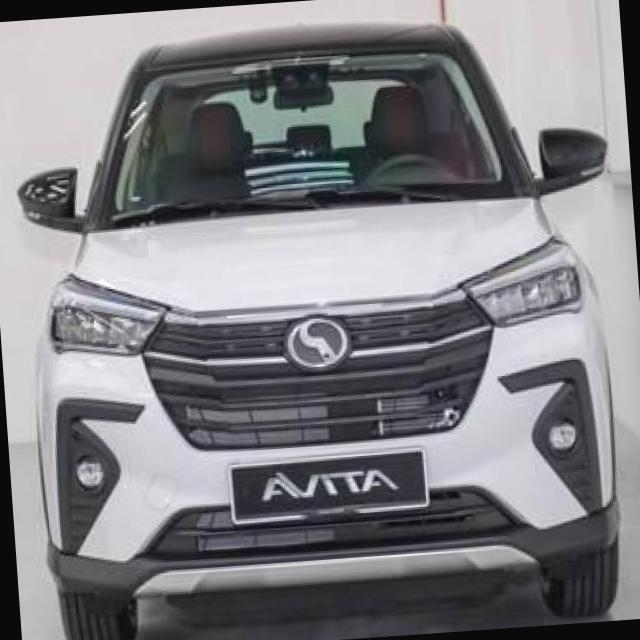PeroduaAtiva: (6, 3, 639, 640)
